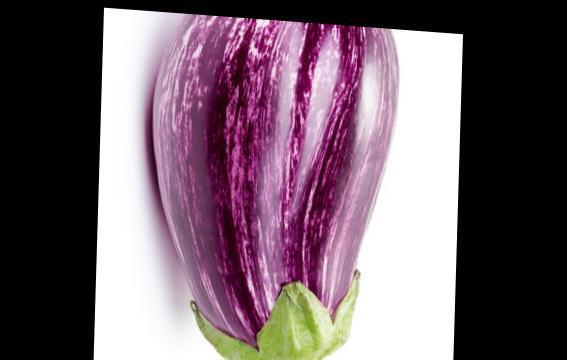eggplant: (149, 9, 390, 359)
